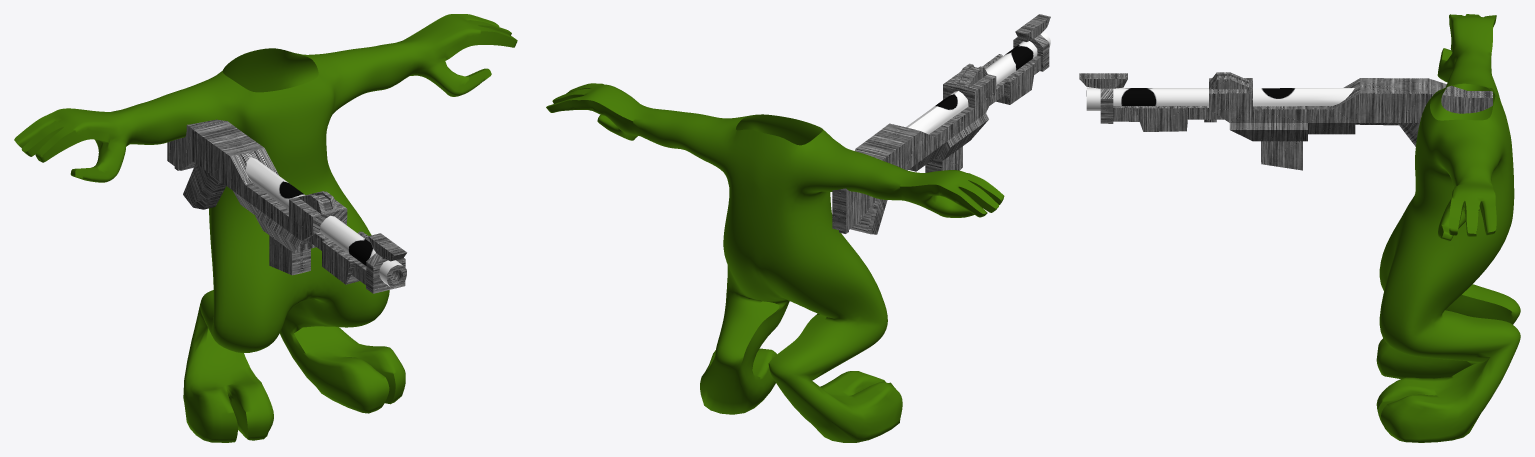
File: alien hud.fbx
3 renders of one model, left to right at view 1: azimuth 30°, elevation 25°; view 2: azimuth 150°, elevation 25°; view 3: azimuth 270°, elevation 25°, orthographic. The views are drawn at different scales.
Parts seen in each view (by area): view 1: Alien, Cube.001; view 2: Alien, Cube.001; view 3: Alien, Cube.001.
Part boxes in pixels (bbox=[...]): Alien: bbox=[14, 14, 517, 442]; Cube.001: bbox=[167, 119, 406, 293]; Alien: bbox=[546, 83, 1004, 442]; Cube.001: bbox=[832, 14, 1050, 234]; Alien: bbox=[1376, 14, 1520, 442]; Cube.001: bbox=[1079, 72, 1492, 170].
Size of the model in its own units: 2.58 by 1.68 by 2.21.
